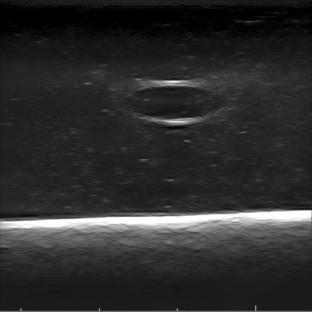vessel: (128, 80, 223, 125)
